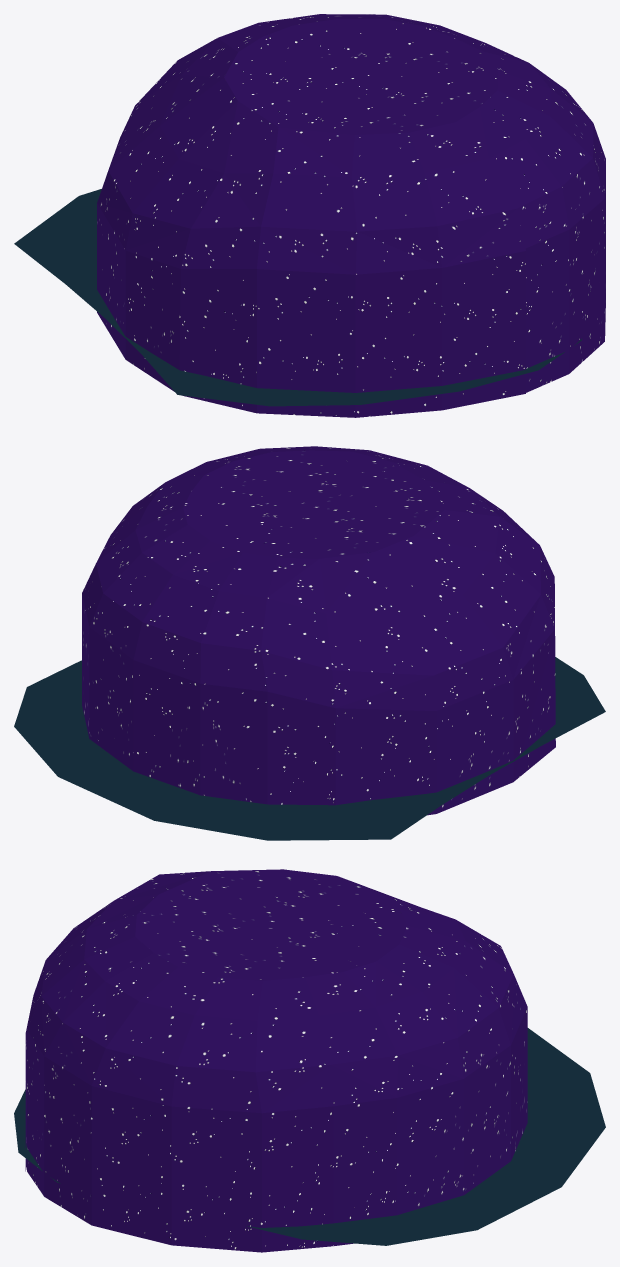
Rendered from DarkForest.glb.
3 renders of one model, top to bottom at view 1: azimuth 30°, elevation 25°; view 2: azimuth 150°, elevation 25°; view 3: azimuth 270°, elevation 25°, orthographic. The views are drawn at different scales.
Parts seen in each view (by area): view 1: DarkForest_Stars, DarkForest_BG; view 2: DarkForest_Stars, DarkForest_BG; view 3: DarkForest_Stars, DarkForest_BG.
Part boxes in pixels (x1,y1,x2,y2): DarkForest_Stars: (97, 14, 605, 417); DarkForest_BG: (14, 189, 581, 406); DarkForest_Stars: (82, 446, 555, 815); DarkForest_BG: (14, 657, 605, 840); DarkForest_Stars: (25, 869, 527, 1252); DarkForest_BG: (14, 1028, 605, 1245).
Bounding box in the file's own units: 66.3 × 30.08 × 70.71.
Materials: 3 (3 with a texture image).
